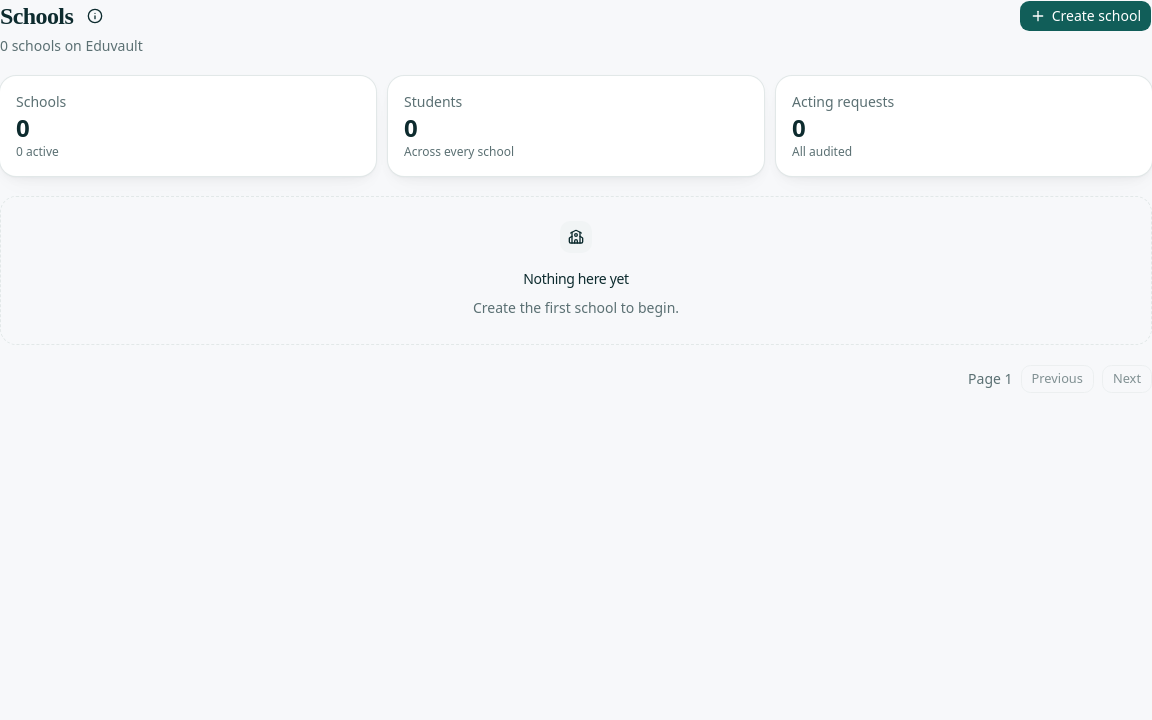
Test case: CreateSchoolSheet › says so when the clipboard refuses the copy
Click the button "Create school" at (1085, 16), box [1019,0,1151,32]
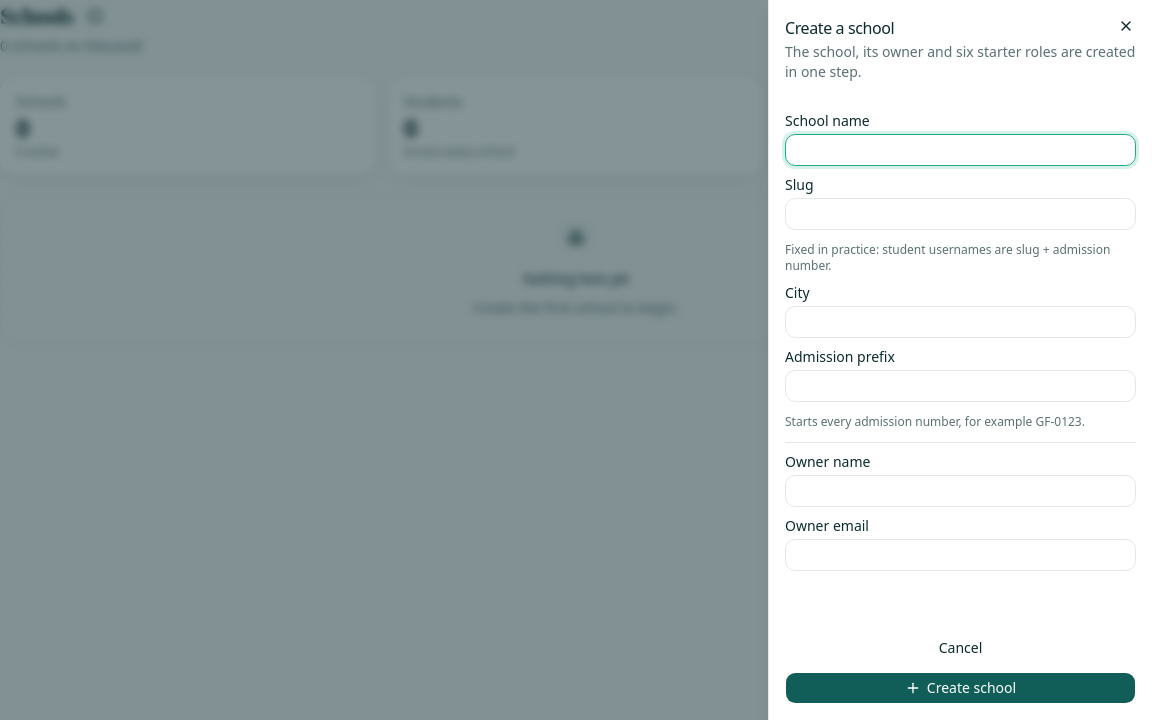
Type "Greenfield College" into the field labelled "School name" at (960, 150), box [785,134,1136,166]
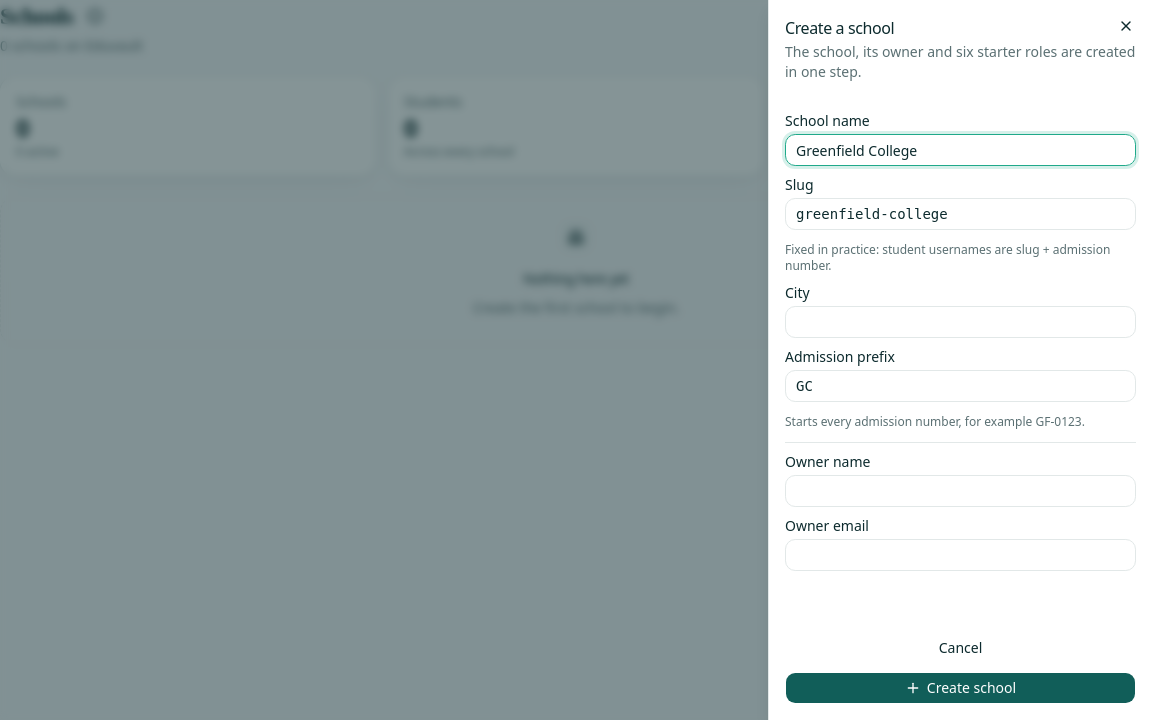
Type "Funmi Adeyemi" into the field labelled "Owner name" at (960, 491), box [785,475,1136,507]
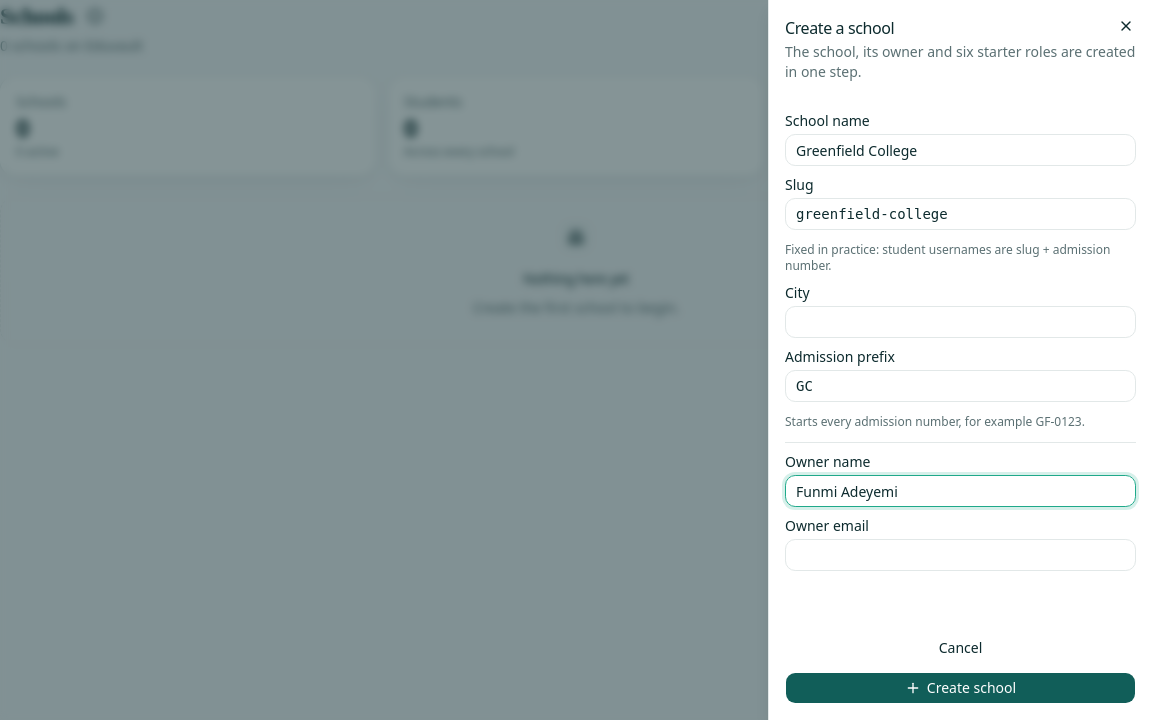
Type "funmi@greenfield.test" into the field labelled "Owner email" at (960, 555), box [785,539,1136,571]
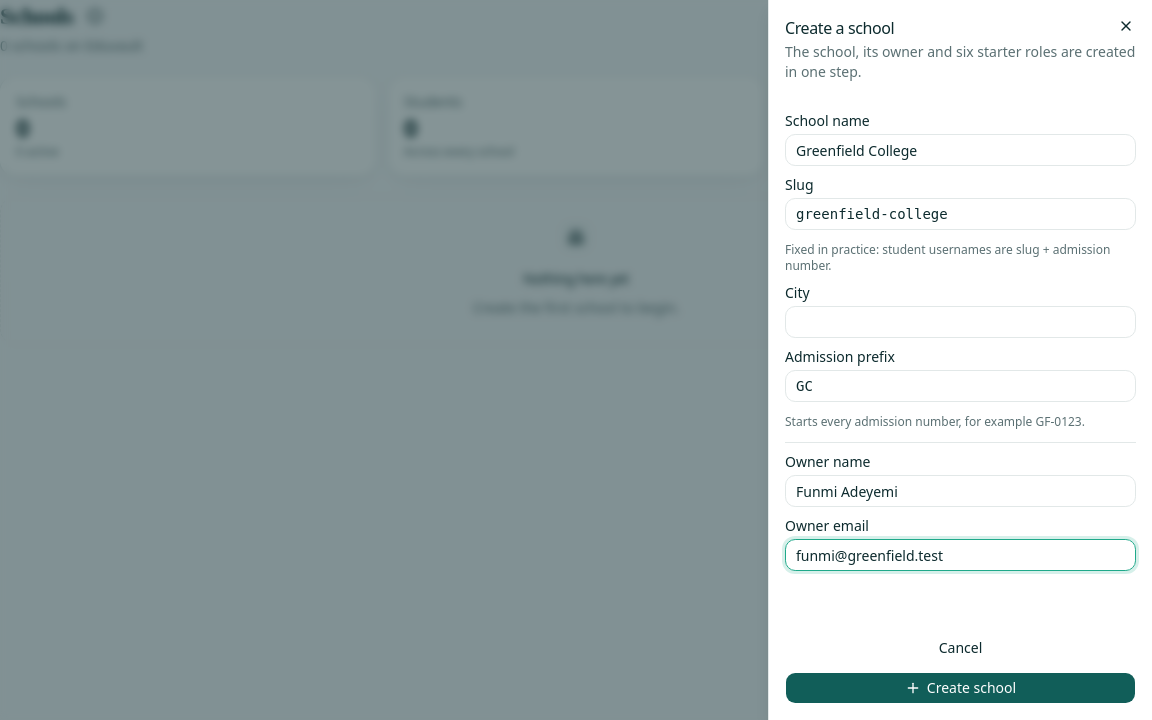
Click the button "Create school" at (960, 688), box [785,672,1136,704]
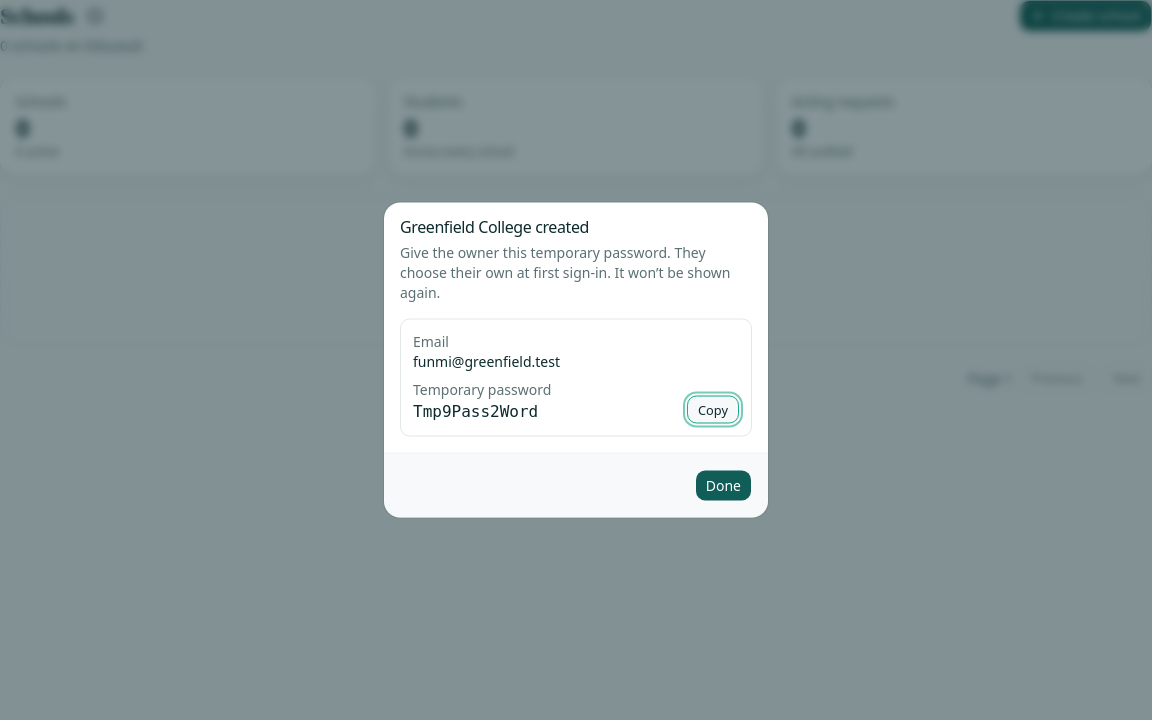
Click the button "Copy" at (713, 410), box [687,396,739,424]
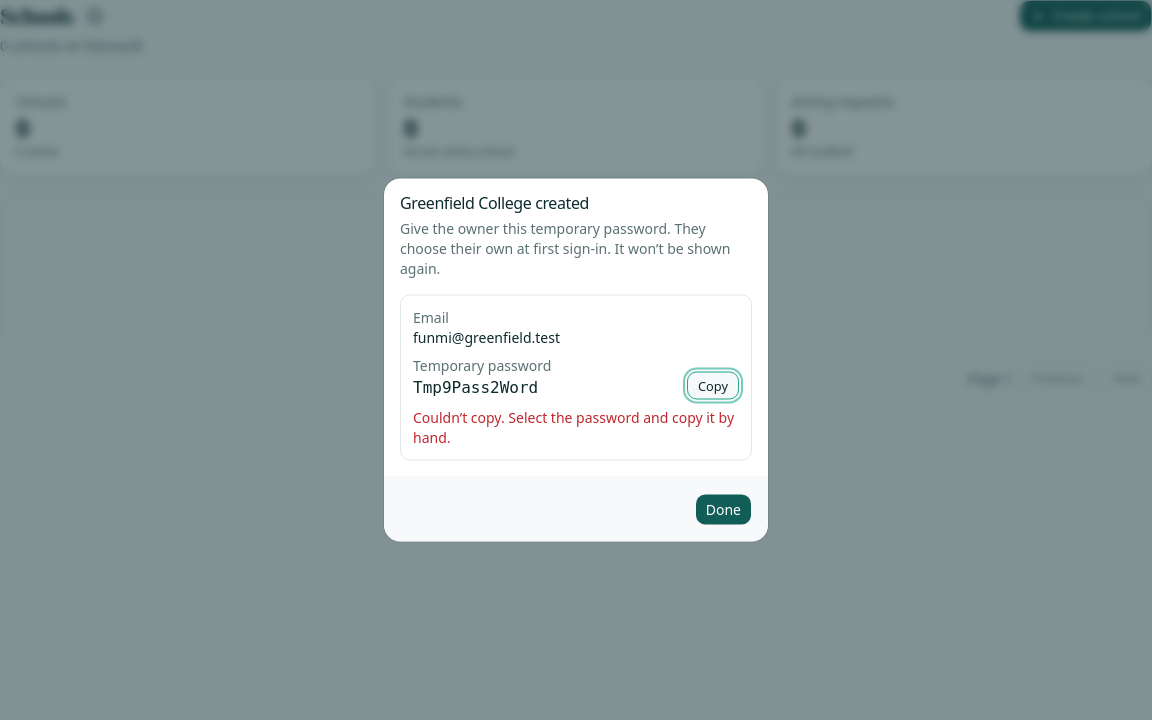
Now the text "Tmp9Pass2Word" is shown, box [413,376,551,400]
Now the message shows "Couldn’t copy", box [413,408,734,446]
